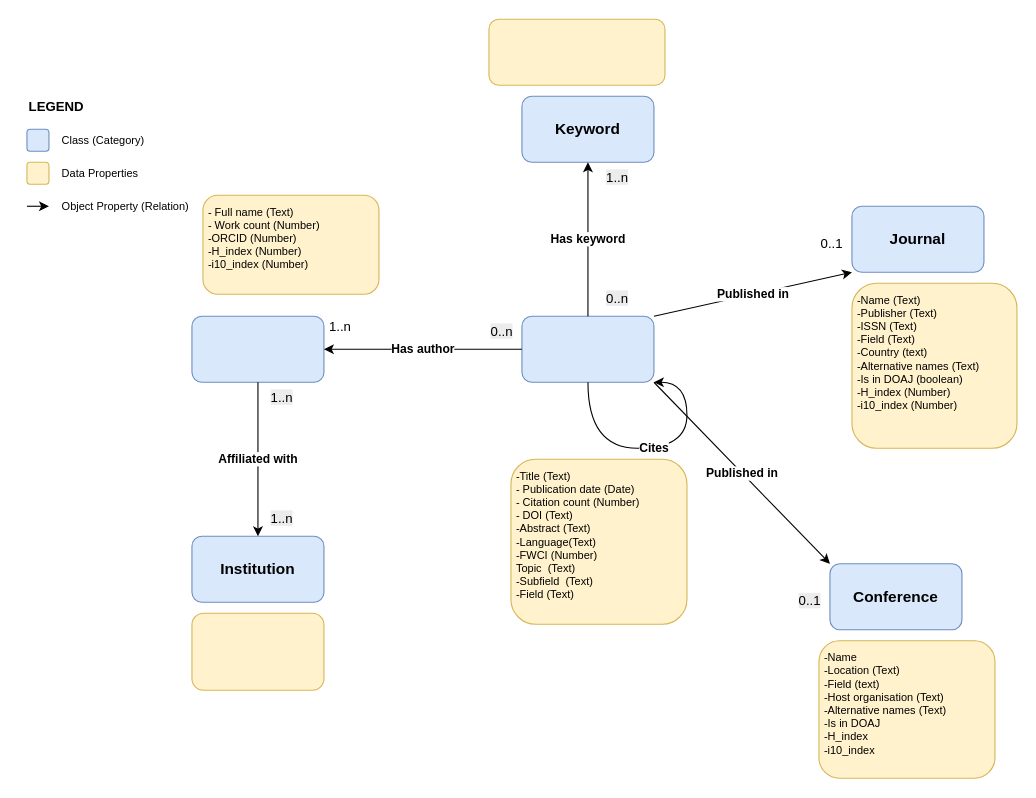
Image size: 1036x798. Some labels were removed from this diagram. The centre of each missing label's shape, as x and y in pixels:
- Country (Text) -Type (Text) -Name (Text): the point at 257,651
- Name: the point at 576,51
Article: the point at 587,348
Author: the point at 257,348
